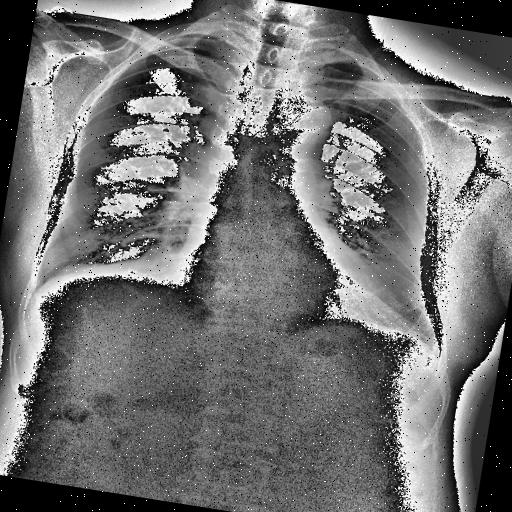0- Aortic enlargement: (261, 89, 337, 164), (265, 96, 333, 150), (283, 92, 334, 140)
3- Cardiomegaly: (170, 223, 412, 331), (138, 241, 405, 335), (172, 228, 422, 328)
